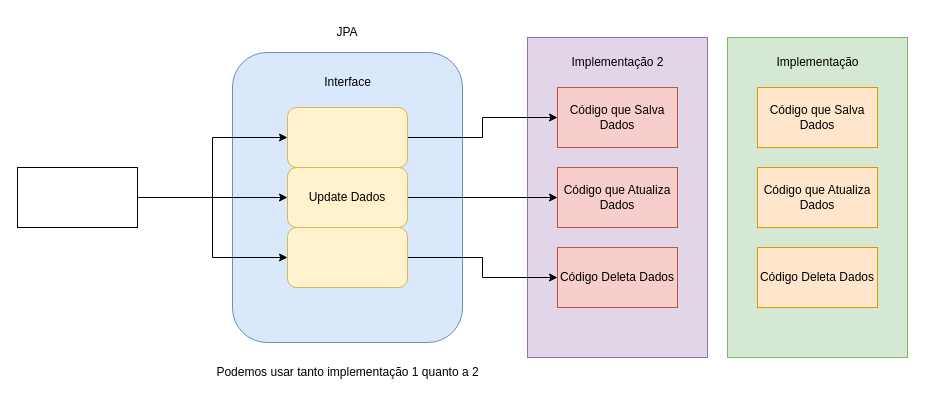
The diagram is 925 pixels wide and 404 high, and some of its shapes have lost their labels. Each missing label, with the centre of its shape:
"Delete Dados" belongs at point 347,257.
"Programa" belongs at point 77,197.
"Salva Dados" belongs at point 347,137.
